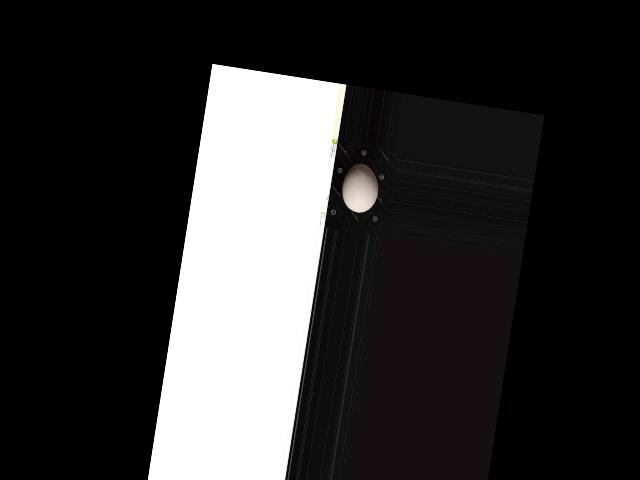egg: (338, 161, 381, 215)
